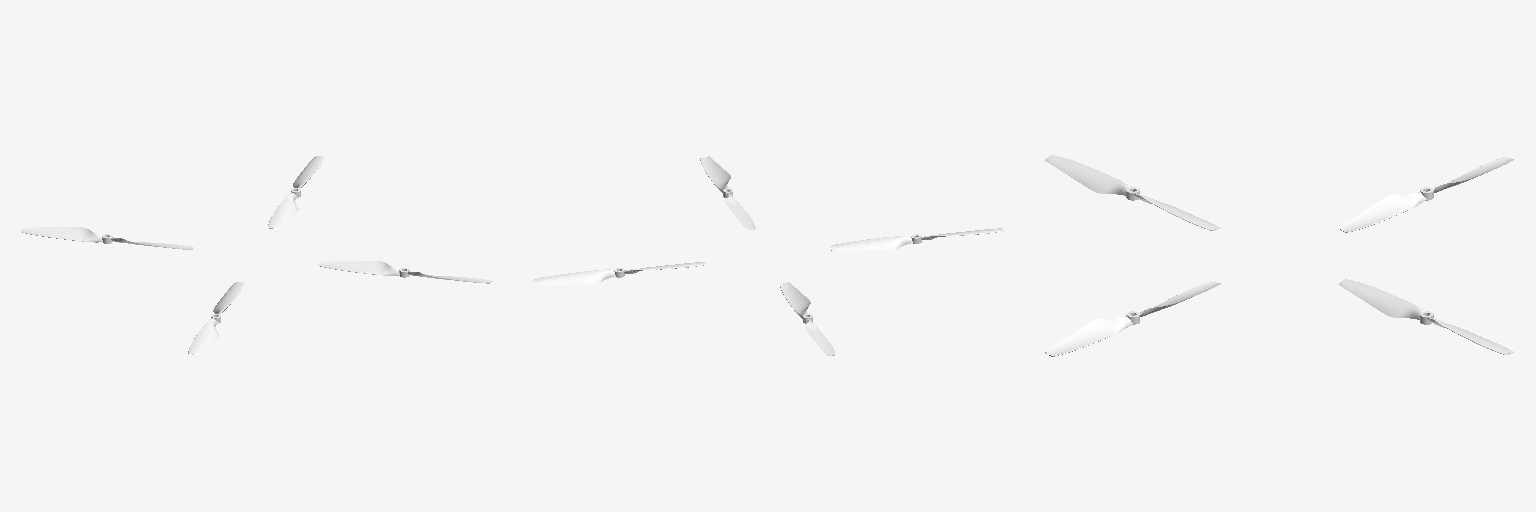
robot.urdf — F450.SLDASM:
<?xml version="1.0" encoding="utf-8"?>
<!-- This URDF was automatically created by SolidWorks to URDF Exporter! Originally created by Stephen Brawner ([email redacted]) 
     Commit Version: 1.6.0-4-g7f85cfe  Build Version: 1.6.7995.38578
     For more information, please see http://wiki.ros.org/sw_urdf_exporter -->
<robot
  name="F450.SLDASM">
  <link
    name="base_link">
    <inertial>
      <origin
        xyz="1.6678E-09 -1.4512E-07 0.015735"
        rpy="0 0 0" />
      <mass
        value="2.3539" />
      <inertia
        ixx="0.00156"
        ixy="2.1787E-10"
        ixz="-2.8822E-12"
        iyy="0.0016039"
        iyz="1.2569E-10"
        izz="0.0027591" />
    </inertial>
    <visual>
      <origin
        xyz="0 0 0"
        rpy="0 0 0" />
      <geometry>
        <mesh
          filename="package://F450.SLDASM/meshes/base_link.STL" />
      </geometry>
      <material
        name="">
        <color
          rgba="1 1 1 1" />
      </material>
    </visual>
    <collision>
      <origin
        xyz="0 0 0"
        rpy="0 0 0" />
      <geometry>
        <mesh
          filename="package://F450.SLDASM/meshes/base_link.STL" />
      </geometry>
    </collision>
  </link>
  <link
    name="rotor_0">
    <inertial>
      <origin
        xyz="-2.9126E-06 3.9852E-06 -0.0053389"
        rpy="0 0 0" />
      <mass
        value="0.016293" />
      <inertia
        ixx="3.0178E-05"
        ixy="2.9916E-05"
        ixz="5.5434E-11"
        iyy="3.0722E-05"
        iyz="-1.3712E-10"
        izz="6.0747E-05" />
    </inertial>
    <visual>
      <origin
        xyz="0 0 0"
        rpy="0 0 0" />
      <geometry>
        <mesh
          filename="package://F450.SLDASM/meshes/rotor_0.STL" />
      </geometry>
      <material
        name="">
        <color
          rgba="1 1 1 1" />
      </material>
    </visual>
    <collision>
      <origin
        xyz="0 0 0"
        rpy="0 0 0" />
      <geometry>
        <mesh
          filename="package://F450.SLDASM/meshes/rotor_0.STL" />
      </geometry>
    </collision>
  </link>
  <joint
    name="rotor_0_joint"
    type="continuous">
    <origin
      xyz="0.1591 -0.1591 0.071247"
      rpy="0 0 0" />
    <parent
      link="base_link" />
    <child
      link="rotor_0" />
    <axis
      xyz="0 0 -1" />
  </joint>
  <link
    name="rotor_1">
    <inertial>
      <origin
        xyz="5.2788E-07 -4.137E-07 -0.0053393"
        rpy="0 0 0" />
      <mass
        value="0.016291" />
      <inertia
        ixx="3.0176E-05"
        ixy="2.9914E-05"
        ixz="1.9113E-11"
        iyy="3.072E-05"
        iyz="-1.7792E-11"
        izz="6.0743E-05" />
    </inertial>
    <visual>
      <origin
        xyz="0 0 0"
        rpy="0 0 0" />
      <geometry>
        <mesh
          filename="package://F450.SLDASM/meshes/rotor_1.STL" />
      </geometry>
      <material
        name="">
        <color
          rgba="1 1 1 1" />
      </material>
    </visual>
    <collision>
      <origin
        xyz="0 0 0"
        rpy="0 0 0" />
      <geometry>
        <mesh
          filename="package://F450.SLDASM/meshes/rotor_1.STL" />
      </geometry>
    </collision>
  </link>
  <joint
    name="rotor_1_joint"
    type="continuous">
    <origin
      xyz="-0.1591 0.1591 0.071247"
      rpy="0 0 0" />
    <parent
      link="base_link" />
    <child
      link="rotor_1" />
    <axis
      xyz="0 0 -1" />
  </joint>
  <link
    name="rotor_2">
    <inertial>
      <origin
        xyz="8.334E-08 7.2228E-08 -0.0036607"
        rpy="0 0 0" />
      <mass
        value="0.016291" />
      <inertia
        ixx="3.0177E-05"
        ixy="-2.9914E-05"
        ixz="6.4893E-12"
        iyy="3.0721E-05"
        iyz="7.819E-12"
        izz="6.0744E-05" />
    </inertial>
    <visual>
      <origin
        xyz="0 0 0"
        rpy="0 0 0" />
      <geometry>
        <mesh
          filename="package://F450.SLDASM/meshes/rotor_2.STL" />
      </geometry>
      <material
        name="">
        <color
          rgba="1 1 1 1" />
      </material>
    </visual>
    <collision>
      <origin
        xyz="0 0 0"
        rpy="0 0 0" />
      <geometry>
        <mesh
          filename="package://F450.SLDASM/meshes/rotor_2.STL" />
      </geometry>
    </collision>
  </link>
  <joint
    name="rotor_2_joint"
    type="continuous">
    <origin
      xyz="0.1591 0.1591 0.071247"
      rpy="0 0 0" />
    <parent
      link="base_link" />
    <child
      link="rotor_2" />
    <axis
      xyz="0 0 -1" />
  </joint>
  <link
    name="rotor_3">
    <inertial>
      <origin
        xyz="-2.9538E-08 -1.9672E-08 -0.0036607"
        rpy="0 0 0" />
      <mass
        value="0.016291" />
      <inertia
        ixx="3.0177E-05"
        ixy="-2.9914E-05"
        ixz="2.2073E-13"
        iyy="3.0721E-05"
        iyz="5.057E-14"
        izz="6.0744E-05" />
    </inertial>
    <visual>
      <origin
        xyz="0 0 0"
        rpy="0 0 0" />
      <geometry>
        <mesh
          filename="package://F450.SLDASM/meshes/rotor_3.STL" />
      </geometry>
      <material
        name="">
        <color
          rgba="1 1 1 1" />
      </material>
    </visual>
    <collision>
      <origin
        xyz="0 0 0"
        rpy="0 0 0" />
      <geometry>
        <mesh
          filename="package://F450.SLDASM/meshes/rotor_3.STL" />
      </geometry>
    </collision>
  </link>
  <joint
    name="rotor_3_joint"
    type="continuous">
    <origin
      xyz="-0.1591 -0.1591 0.071247"
      rpy="0 0 0" />
    <parent
      link="base_link" />
    <child
      link="rotor_3" />
    <axis
      xyz="0 0 -1" />
  </joint>
</robot>

--- What the picture shows (computed from the rendered views, not written in the file) ---
The picture shows the robot from 3 angles, left to right: view 1: azimuth 30°, elevation 25°; view 2: azimuth 150°, elevation 25°; view 3: azimuth 270°, elevation 25°; orthographic projection.
Model F450.SLDASM with 5 links and 4 joints (4 continuous), rooted at base_link, posed all joints at 0.
Links seen in each view (by area): view 1: rotor_1, rotor_0, rotor_2, rotor_3; view 2: rotor_2, rotor_3, rotor_1, rotor_0; view 3: rotor_1, rotor_2, rotor_0, rotor_3.
Boxes of the visible links, box(x1,y1,x2,y2) form: rotor_1: box(21, 227, 193, 249); rotor_0: box(318, 261, 491, 283); rotor_2: box(268, 156, 323, 229); rotor_3: box(188, 282, 243, 355); rotor_2: box(533, 262, 705, 284); rotor_3: box(830, 228, 1003, 250); rotor_1: box(780, 282, 835, 355); rotor_0: box(700, 156, 755, 229); rotor_1: box(1338, 157, 1513, 232); rotor_2: box(1338, 279, 1513, 354); rotor_0: box(1045, 281, 1220, 356); rotor_3: box(1045, 155, 1220, 230).
Size in the robot's own frame: 0.5112 by 0.5104 by 0.014 metres.
Meshes: 5 distinct files referenced, 4 mesh visuals loaded (4 binary STL); not drawn: 1 (reference not matched to a file when rendering).
